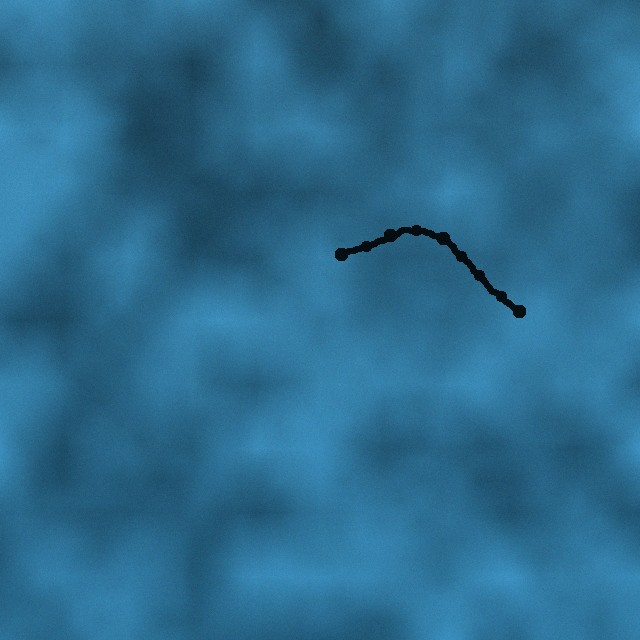crack: (335, 223, 528, 320)
